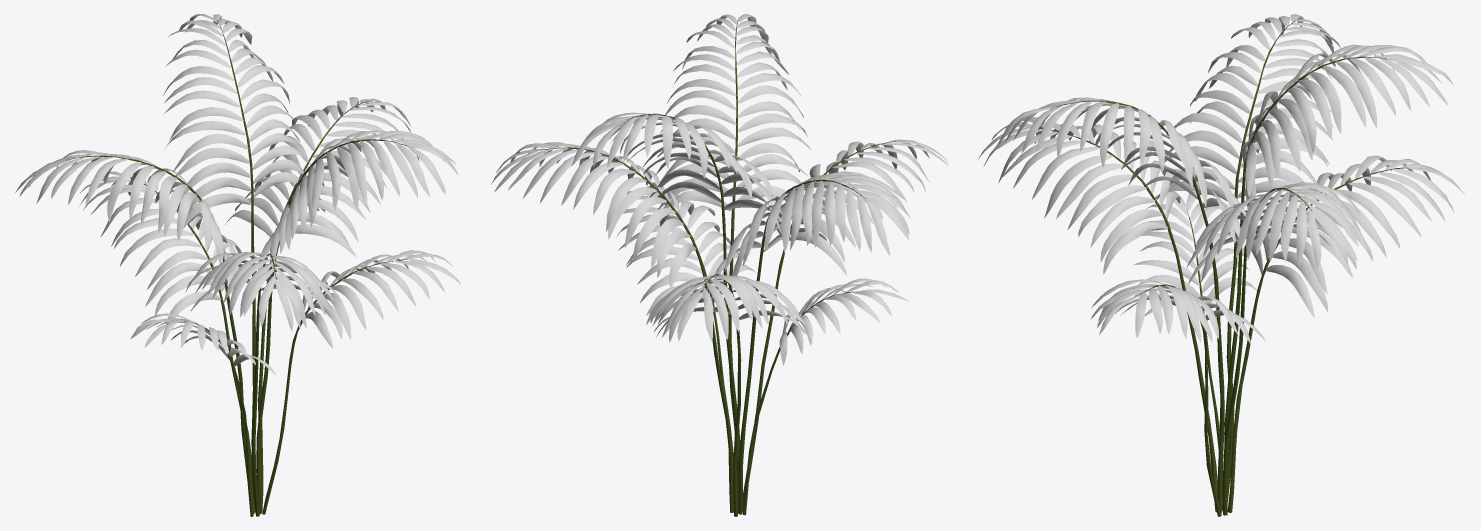
The model's file is Howea_f__A002.fbx.
3 views of the same model, side by side, from view 1: azimuth 30°, elevation 25°; view 2: azimuth 150°, elevation 25°; view 3: azimuth 270°, elevation 25° (orthographic). The views are drawn at different scales.
Visible parts, largest first — view 1: Howea_f__A002; view 2: Howea_f__A002; view 3: Howea_f__A002.
Part boxes in pixels (bbox=[...]): Howea_f__A002: bbox=[15, 14, 460, 516]; Howea_f__A002: bbox=[491, 14, 947, 516]; Howea_f__A002: bbox=[978, 14, 1464, 516].
Size of the model in its own units: 150 by 157 by 146.
